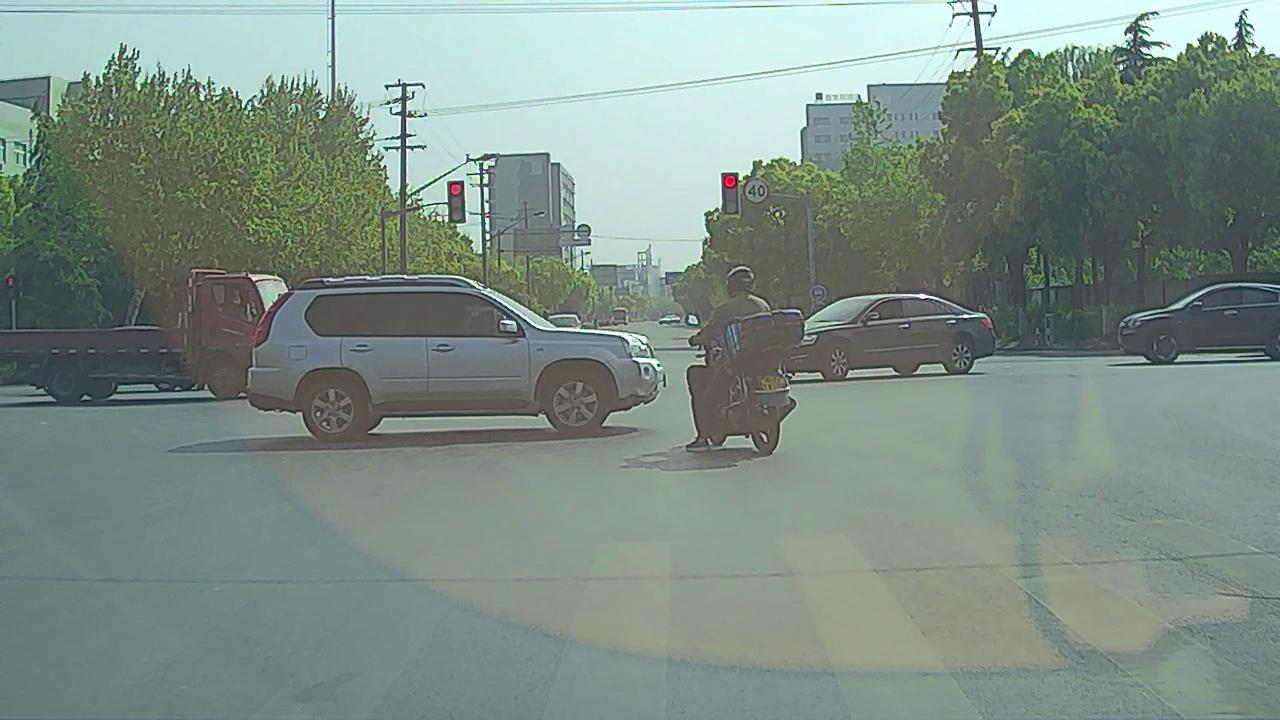traffic_light: (722, 172, 739, 216), (448, 181, 464, 221)
